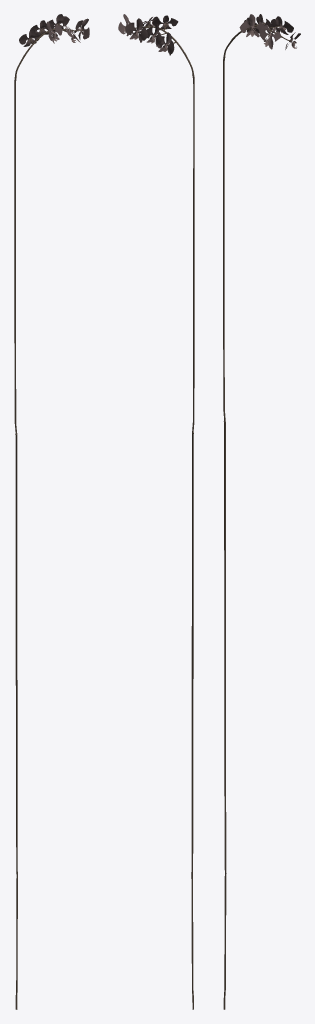
Rendered from flower11.fbx.
3 renders of one model, left to right at view 1: azimuth 30°, elevation 25°; view 2: azimuth 150°, elevation 25°; view 3: azimuth 330°, elevation 25°, orthographic. The views are drawn at different scales.
Visible parts, largest first — view 1: flower_terrain; view 2: flower_terrain; view 3: flower_terrain.
Boxes of the visible parts, bbox=[...] form: flower_terrain: bbox=[14, 14, 89, 1009]; flower_terrain: bbox=[118, 14, 194, 1009]; flower_terrain: bbox=[223, 14, 300, 1009].
Size of the model in its own units: 4.55 by 59.13 by 2.07.
